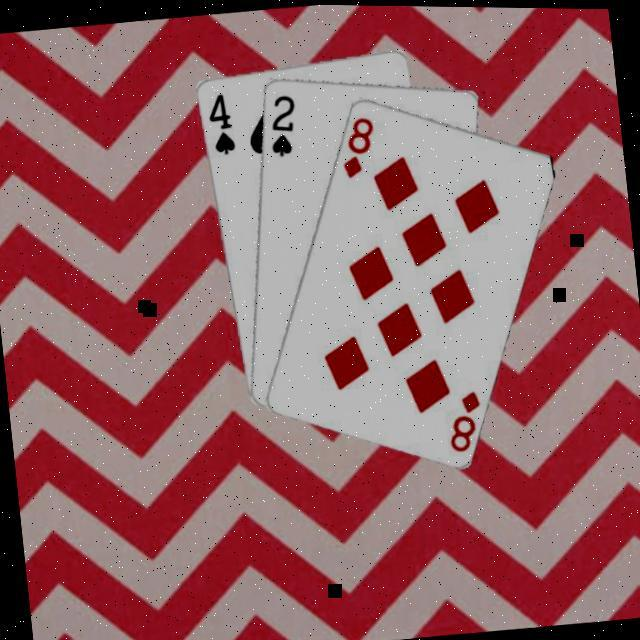2S: (259, 87, 300, 157)
4S: (200, 86, 237, 155)
8D: (333, 109, 380, 180), (438, 382, 485, 452)
